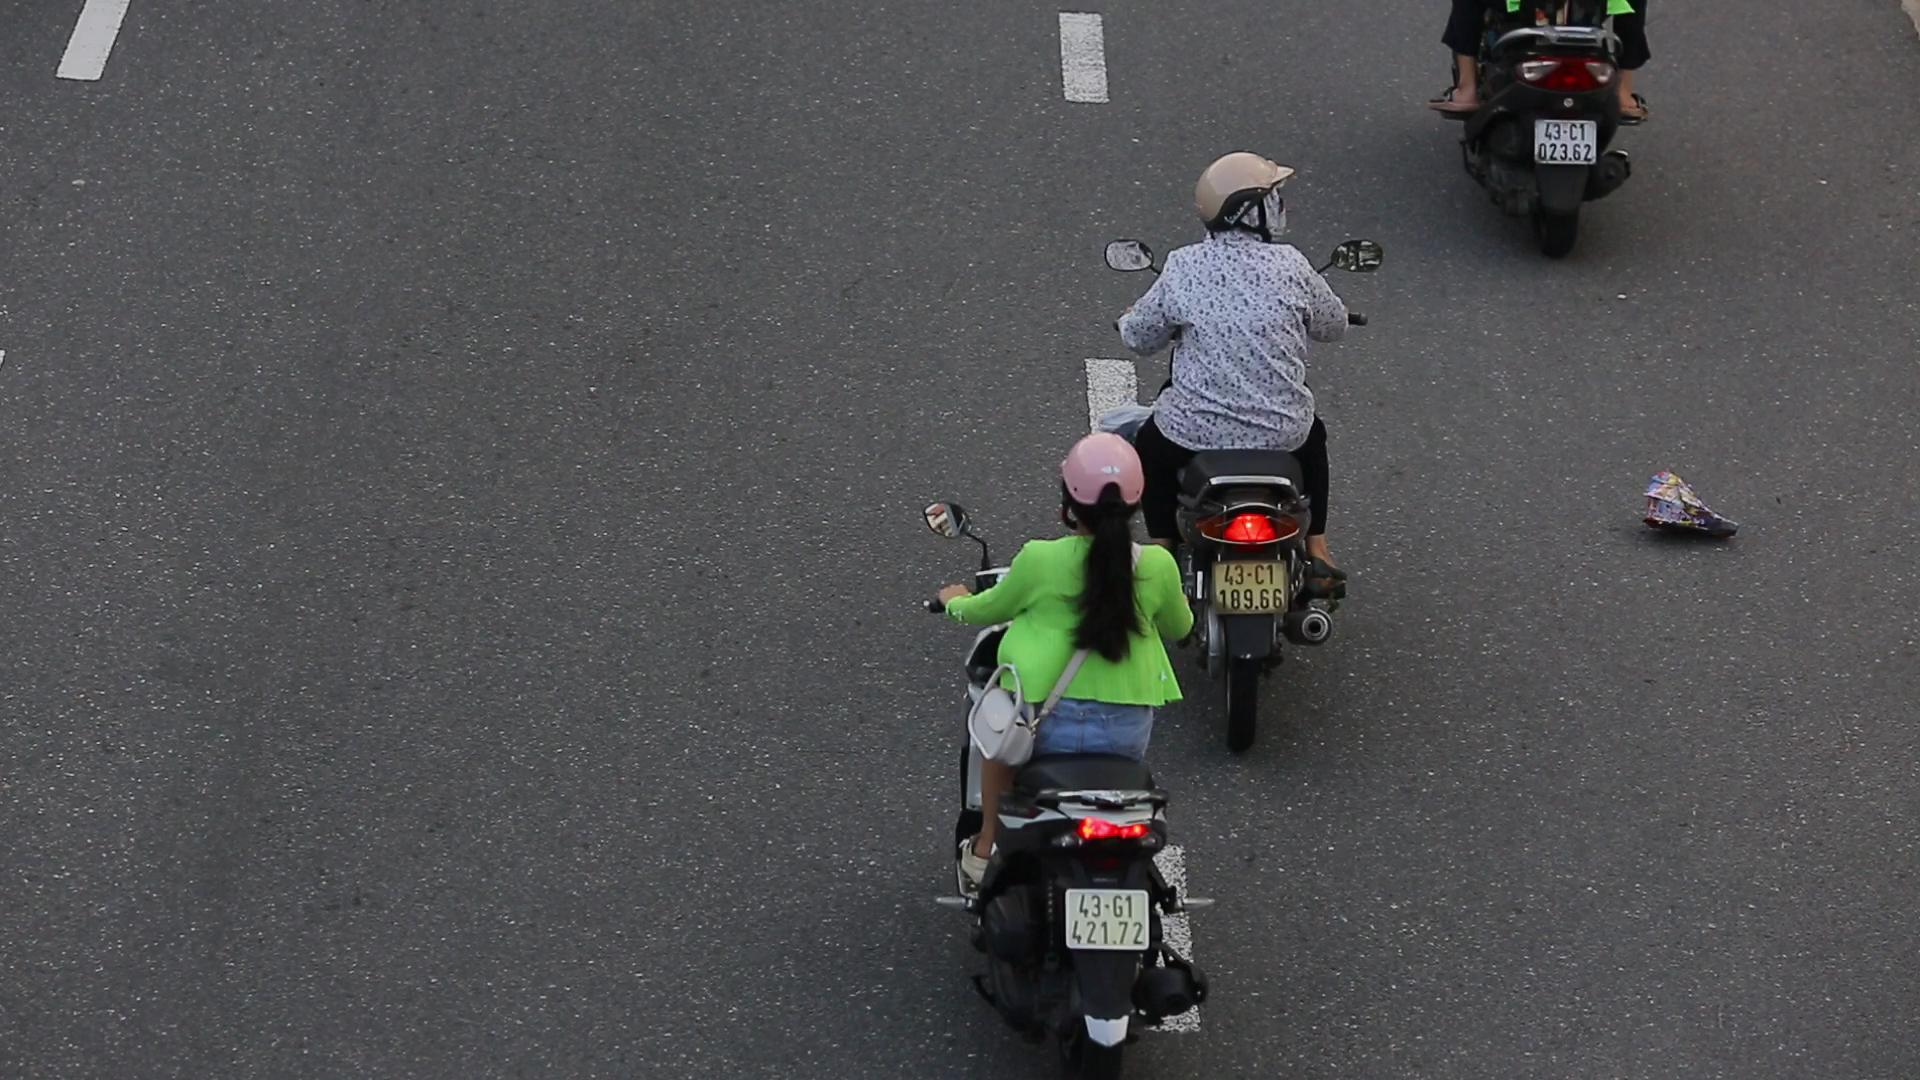motobike: (922, 410, 1195, 1060), (1118, 140, 1393, 762)
